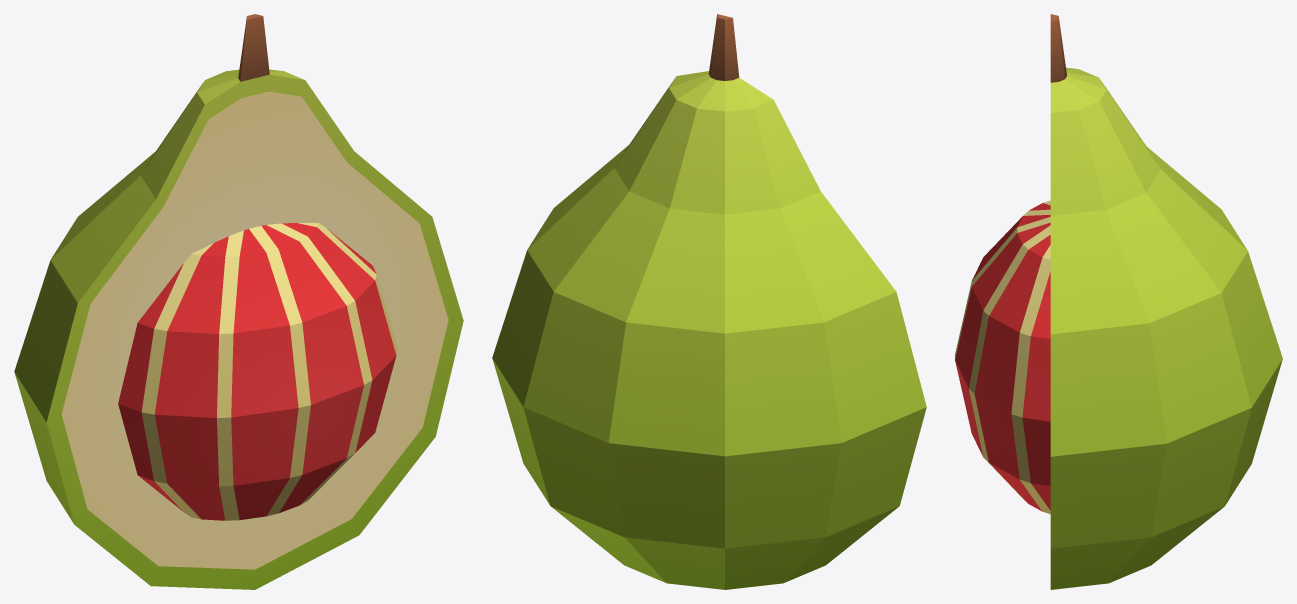
Rendered from Red Pomelo Half.fbx.
3 renders of one model, left to right at view 1: azimuth 30°, elevation 25°; view 2: azimuth 150°, elevation 25°; view 3: azimuth 270°, elevation 25°, orthographic. The views are drawn at different scales.
Parts seen in each view (by area): view 1: Red Pomelo Half; view 2: Red Pomelo Half; view 3: Red Pomelo Half.
Boxes of the visible parts, <box> form: Red Pomelo Half: <box>14,14,463,589</box>; Red Pomelo Half: <box>492,14,926,589</box>; Red Pomelo Half: <box>955,14,1282,589</box>.
Size of the model in its own units: 18.1 by 23.71 by 12.78.
